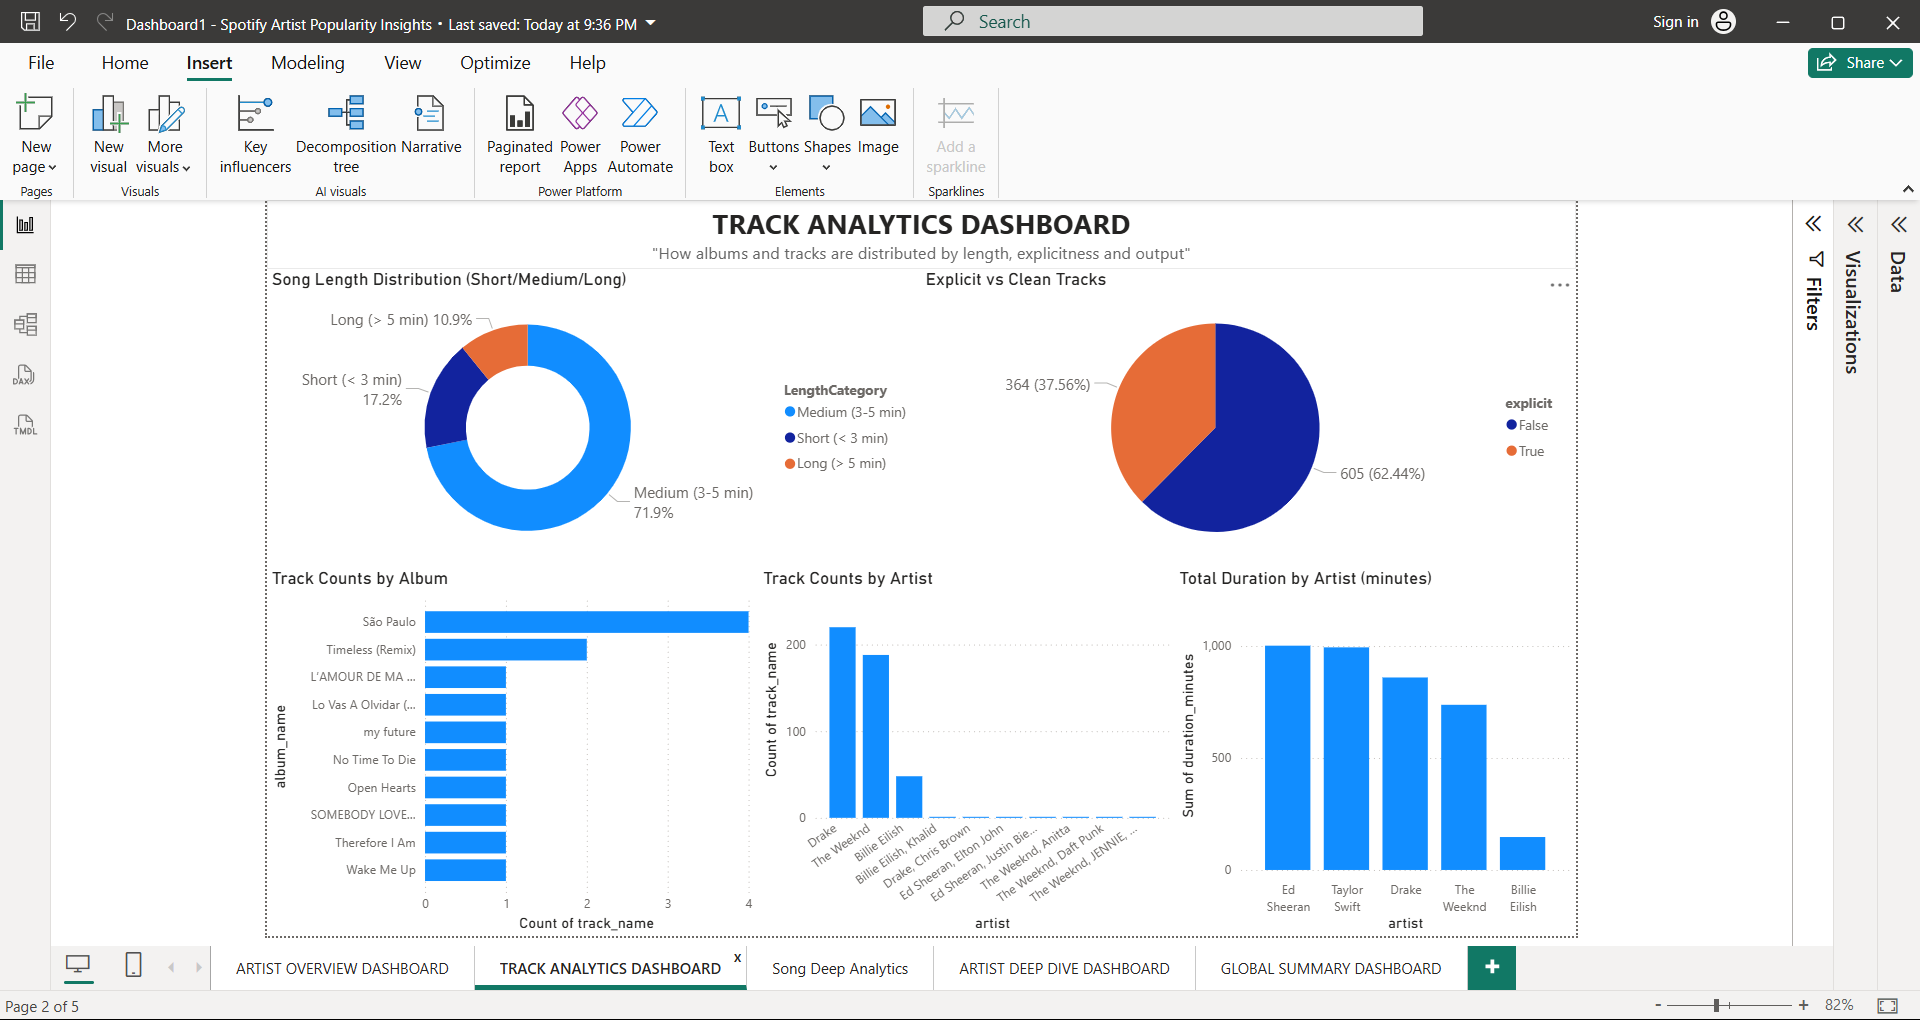

Layout of this report page (visuals, bound fields, positions):
{"tool":"powerbi","page":{"name":"TRACK ANALYTICS DASHBOARD","canvas":[1280,720],"ordinal":1},"visuals":[{"type":"donutChart","title":"Song Length Distribution (Short/Medium/Long)","fields":{"Category":["spotify_tracks_gold_sample.LengthCategory"],"Y":["spotify_tracks_gold_sample.track_name"]},"box":[0,67.2,639.5,292.3],"z":0},{"type":"pieChart","title":"Explicit vs Clean Tracks","fields":{"Category":["spotify_tracks_gold_sample.explicit"],"Y":["spotify_tracks_gold_sample.track_name"]},"box":[639.5,67.2,640.8,292.3],"z":1000},{"type":"clusteredBarChart","title":"Track Counts by Album","fields":{"Category":["spotify_tracks_gold_sample.album_name"],"Y":["spotify_tracks_gold_sample.track_name"]},"box":[0,359.5,480.3,360.9],"z":2000},{"type":"clusteredColumnChart","title":"Track Counts by Artist","fields":{"Category":["spotify_tracks_gold_sample.artist"],"Y":["spotify_tracks_gold_sample.track_name"]},"box":[480.3,359.5,407.5,360.9],"z":3000},{"type":"clusteredColumnChart","title":"Total Duration by Artist (minutes)","fields":{"Category":["spotify_tracks_gold_sample.artist"],"Y":["spotify_tracks_gold_sample.duration_minutes"]},"box":[887.8,359.5,392.5,360.9],"z":4000},{"type":"textbox","box":[0,0,1280.3,67.2],"z":4001}]}

Visuals, with their boxes on the page's 1280x720 design canvas (x1, y1, x2, y2). These are canvas units, not pixel positions in the 1920x1020 screenshot, which may show the page scaled, cropped or inside an application window:
"Song Length Distribution (Short/Medium/Long)" donutChart: (x1=0, y1=67, x2=640, y2=360)
"Explicit vs Clean Tracks" pieChart: (x1=640, y1=67, x2=1280, y2=360)
"Track Counts by Album" clusteredBarChart: (x1=0, y1=360, x2=480, y2=720)
"Track Counts by Artist" clusteredColumnChart: (x1=480, y1=360, x2=888, y2=720)
"Total Duration by Artist (minutes)" clusteredColumnChart: (x1=888, y1=360, x2=1280, y2=720)
textbox: (x1=0, y1=0, x2=1280, y2=67)
